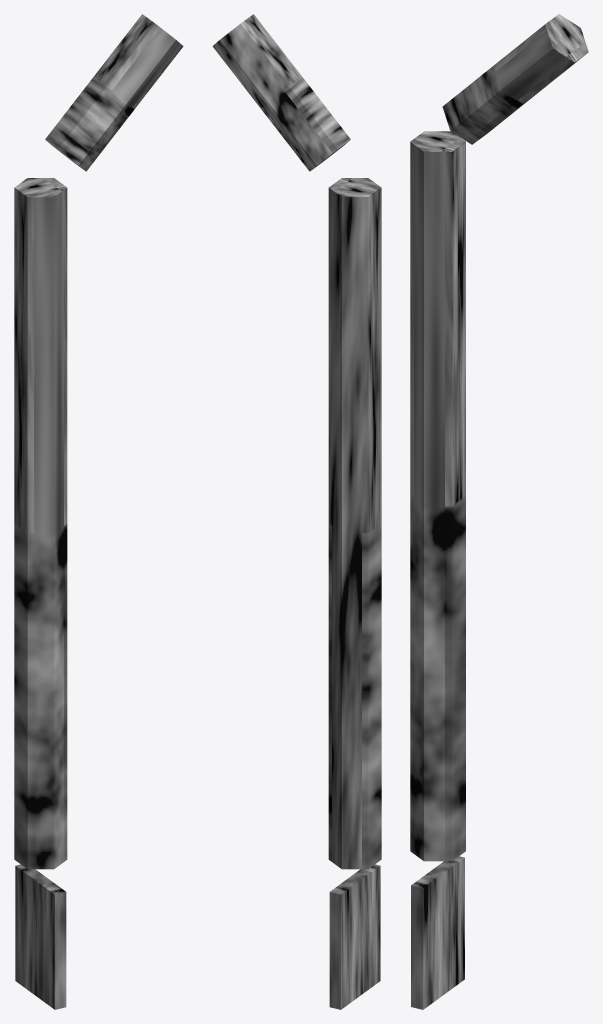
Rendered from crowbar.glb.
The picture shows the model from 3 angles, left to right: view 1: azimuth 30°, elevation 25°; view 2: azimuth 150°, elevation 25°; view 3: azimuth 330°, elevation 25°; orthographic projection. The views are drawn at different scales.
Parts seen in each view (by area): view 1: crowbar; view 2: crowbar; view 3: crowbar.
Part boxes in pixels (x1,y1,x2,y2): crowbar: (14, 14, 183, 1009); crowbar: (212, 14, 381, 1009); crowbar: (410, 14, 588, 1009).
Size of the model in its own units: 0.102 by 0.593 by 0.045.
1 material, 1 textured.
